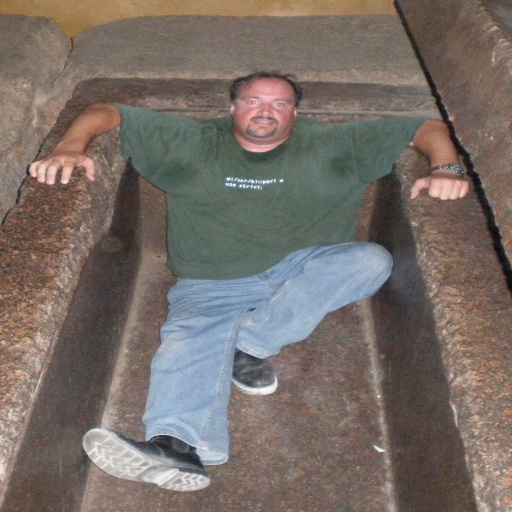hand: (26, 148, 95, 182), (409, 168, 469, 203)
